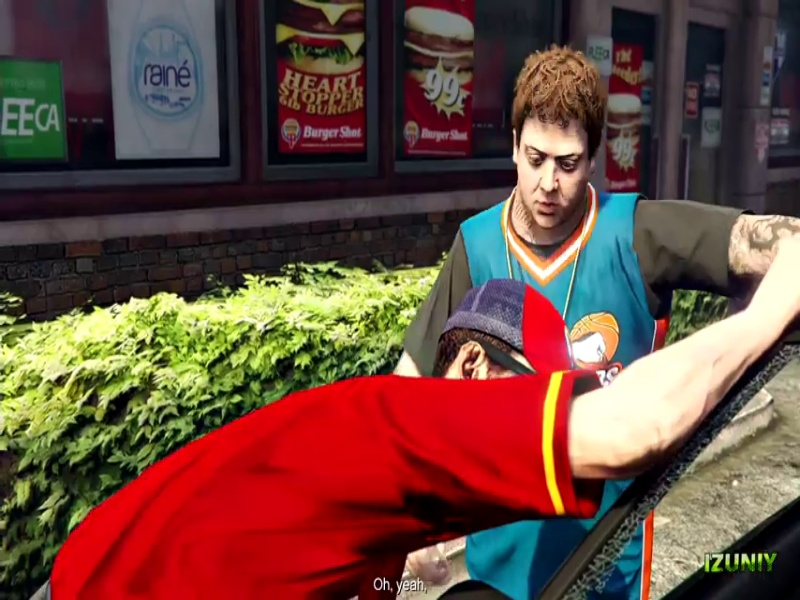human: (403, 43, 798, 390)
